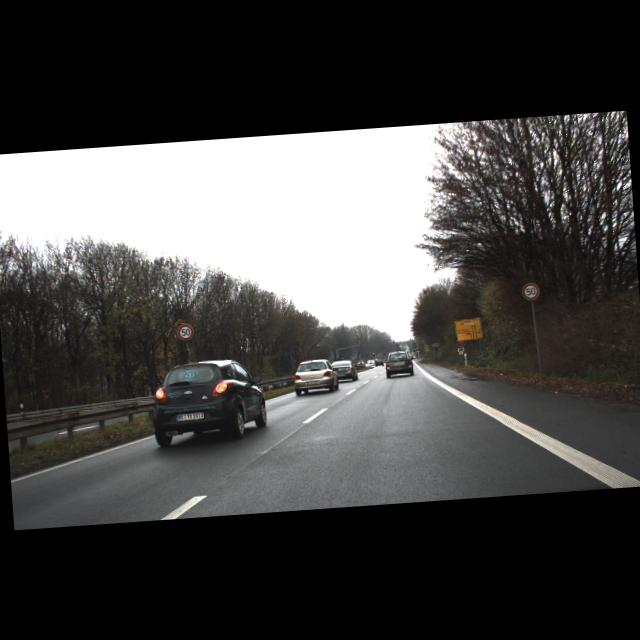prohibitory: (520, 282, 538, 300), (176, 323, 193, 340)
